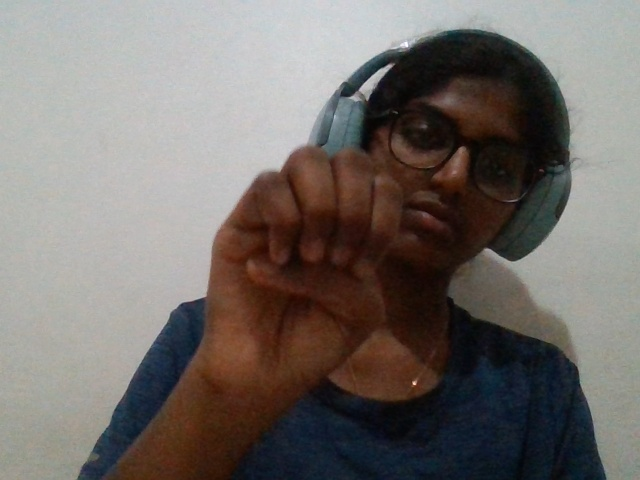E: (104, 108, 451, 461)
